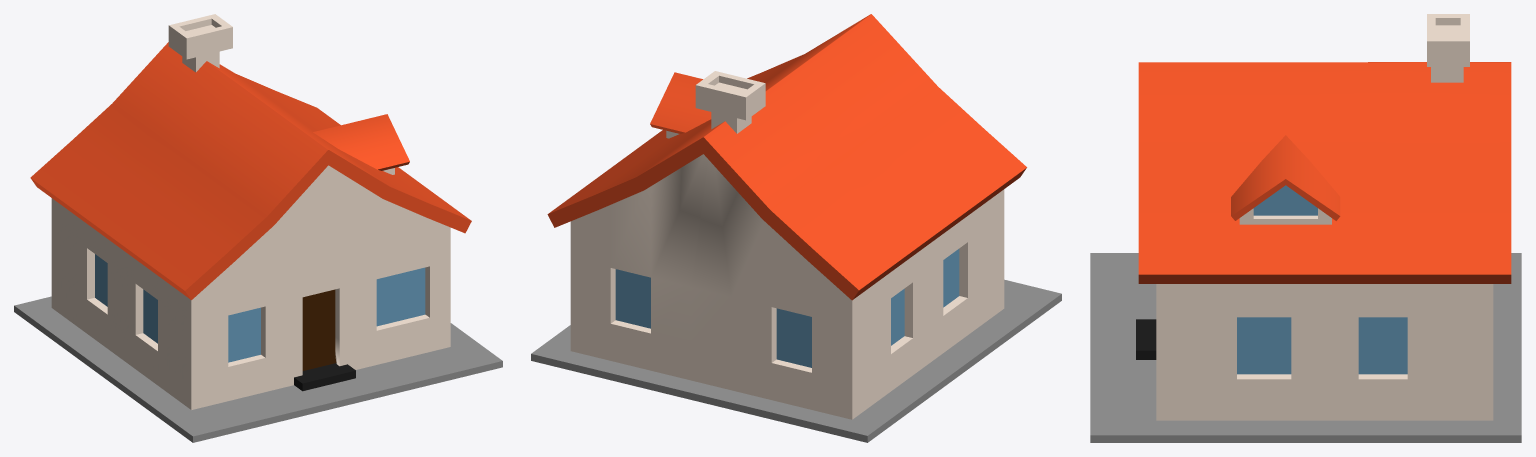
The model's file is Dom II.FBX.
3 views of the same model, side by side, from view 1: azimuth 30°, elevation 25°; view 2: azimuth 150°, elevation 25°; view 3: azimuth 270°, elevation 25° (orthographic). The views are drawn at different scales.
Visible parts, largest first — view 1: Box002, Object001, Plane001, Box003, Object, Box009, Box007, Box008; view 2: Box002, Object001, Plane001, Box003, Box007, Object; view 3: Object001, Box002, Plane001, Box003, Object, Box007, Box005, Box004, Box008, Box006.
Boxes of the visible parts, left/top/right/bottom form: Box002: left=51, top=165, right=450, bottom=409; Object001: left=30, top=42, right=471, bottom=299; Plane001: left=14, top=296, right=502, bottom=442; Box003: left=95, top=254, right=425, bottom=362; Object: left=313, top=114, right=409, bottom=170; Box009: left=302, top=289, right=336, bottom=370; Box007: left=168, top=14, right=232, bottom=59; Box008: left=294, top=363, right=355, bottom=391; Box002: left=570, top=154, right=1004, bottom=419; Object001: left=547, top=14, right=1026, bottom=300; Plane001: left=531, top=279, right=1061, bottom=442; Box003: left=615, top=249, right=959, bottom=367; Box007: left=695, top=71, right=765, bottom=120; Object: left=650, top=72, right=711, bottom=133; Object001: left=1138, top=62, right=1511, bottom=283; Box002: left=1156, top=284, right=1493, bottom=420; Plane001: left=1090, top=253, right=1521, bottom=442; Box003: left=1237, top=317, right=1407, bottom=374; Object: left=1231, top=135, right=1340, bottom=220; Box007: left=1427, top=14, right=1469, bottom=66; Box005: left=1253, top=185, right=1317, bottom=215; Box004: left=1239, top=208, right=1331, bottom=224; Box008: left=1136, top=319, right=1156, bottom=359; Box006: left=1431, top=67, right=1463, bottom=82.
Size of the model in its own units: 1 by 0.8324 by 1.
